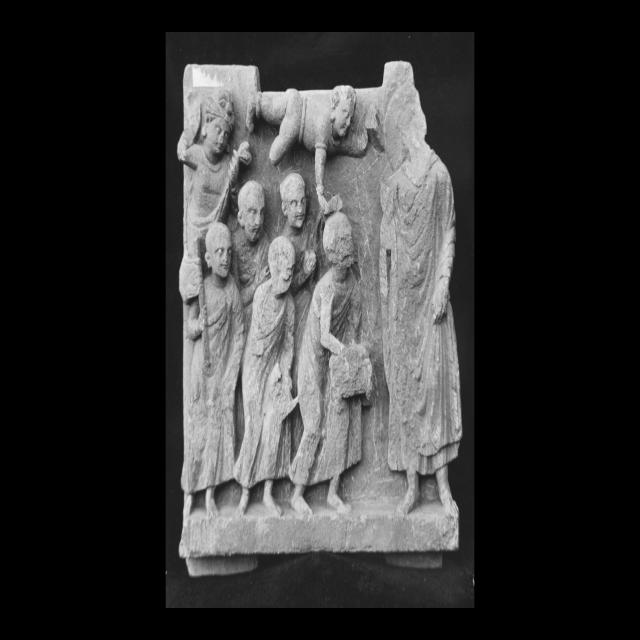buddha-standing: (380, 82, 462, 518)
